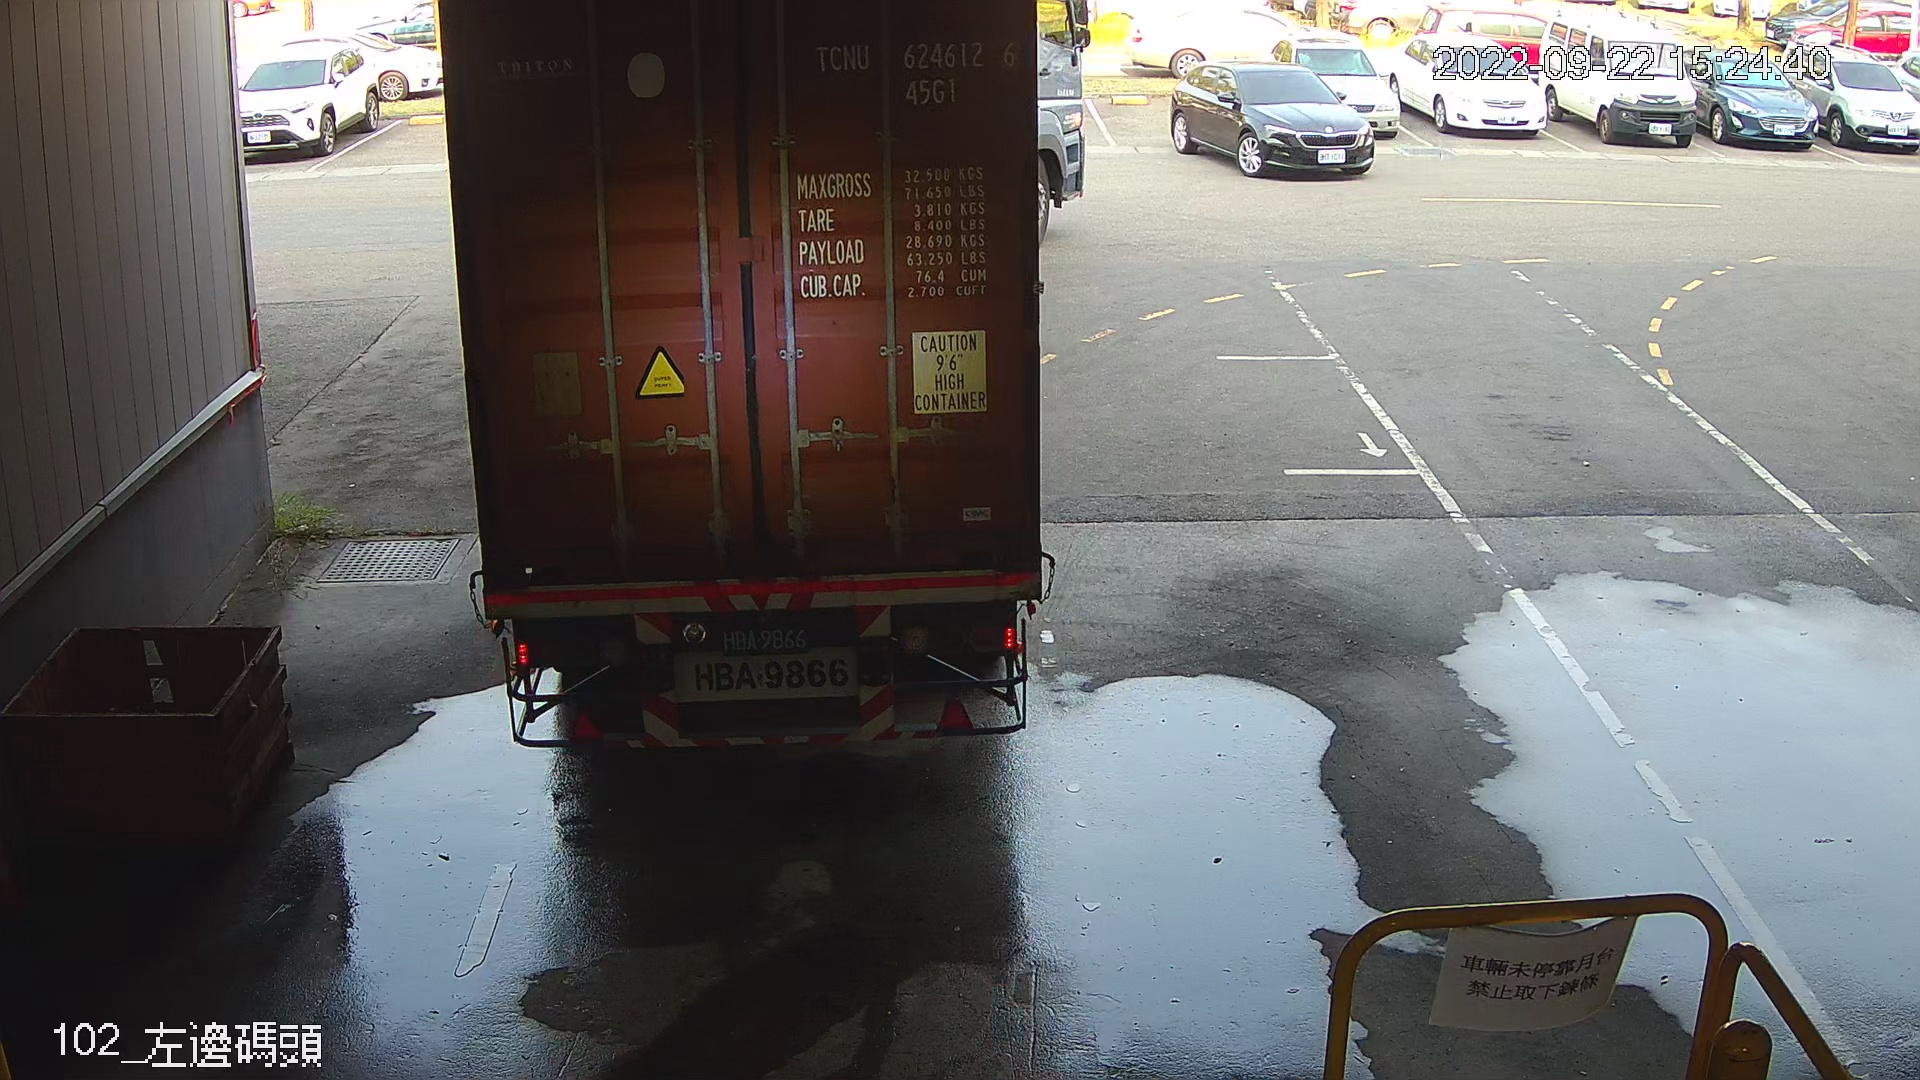container: (806, 36, 1026, 113)
